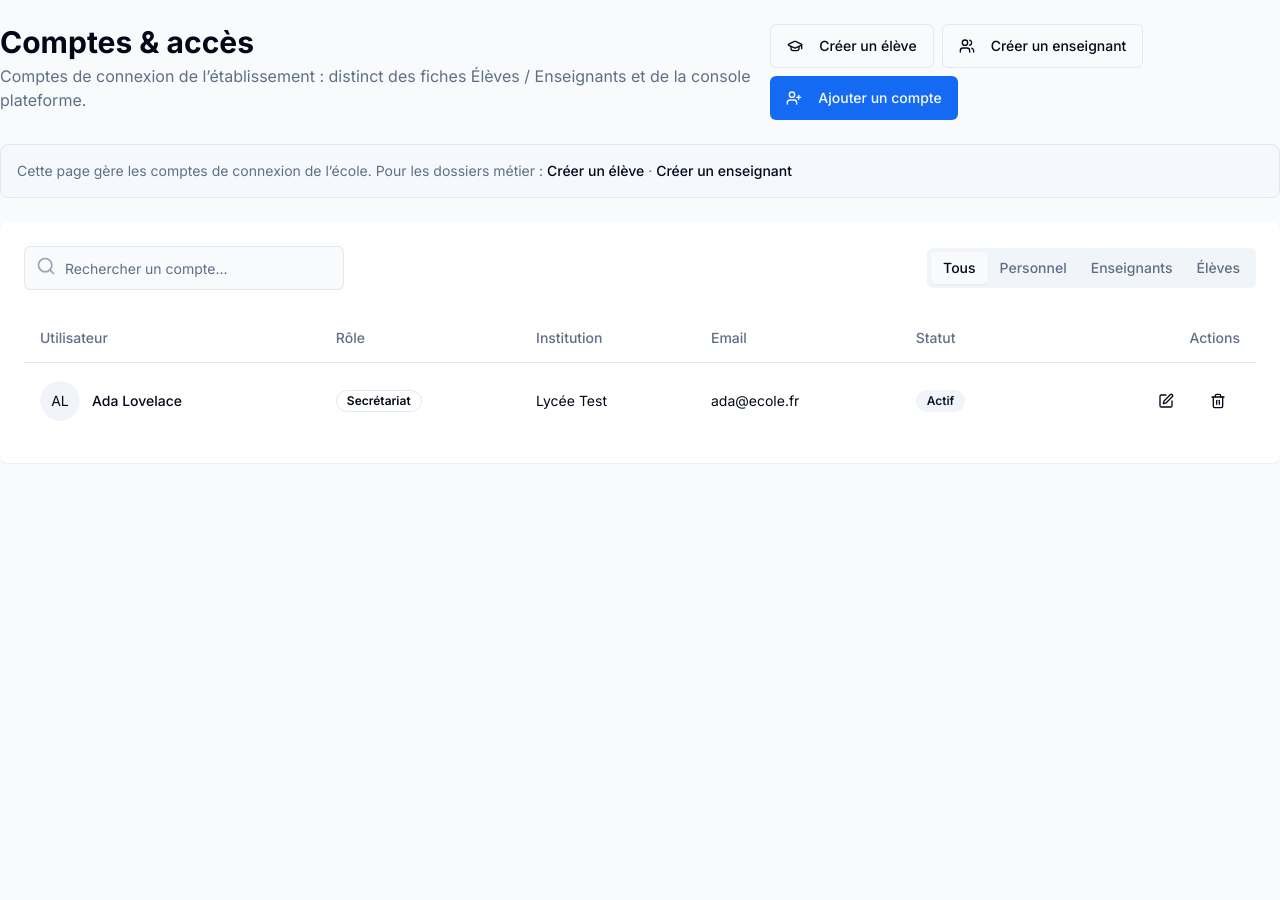
Test: UsersManagement (comptes vs métier) › n’offre pas les rôles élève/enseignant à la création de compte
Click the button "Ajouter un compte".
click(864, 98)  # box [770, 76, 958, 120]
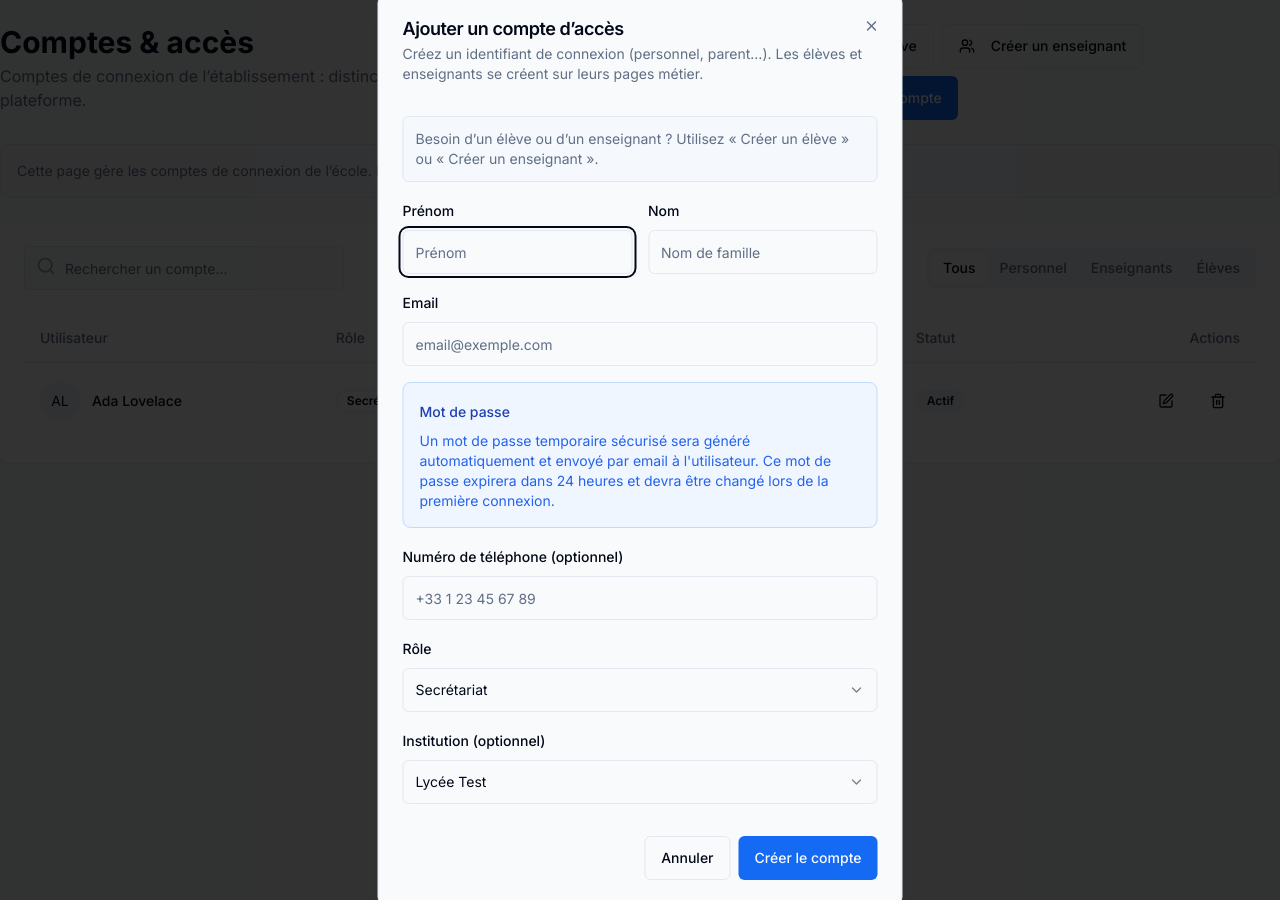
expect the heading "Ajouter un compte d’accès" is shown: met, box [402, 18, 624, 39]
// Ouvre le select rôle : les options métier ne doivent pas apparaître.
Click the dropdown named "Rôle".
click(452, 690)  # box [402, 668, 878, 712]
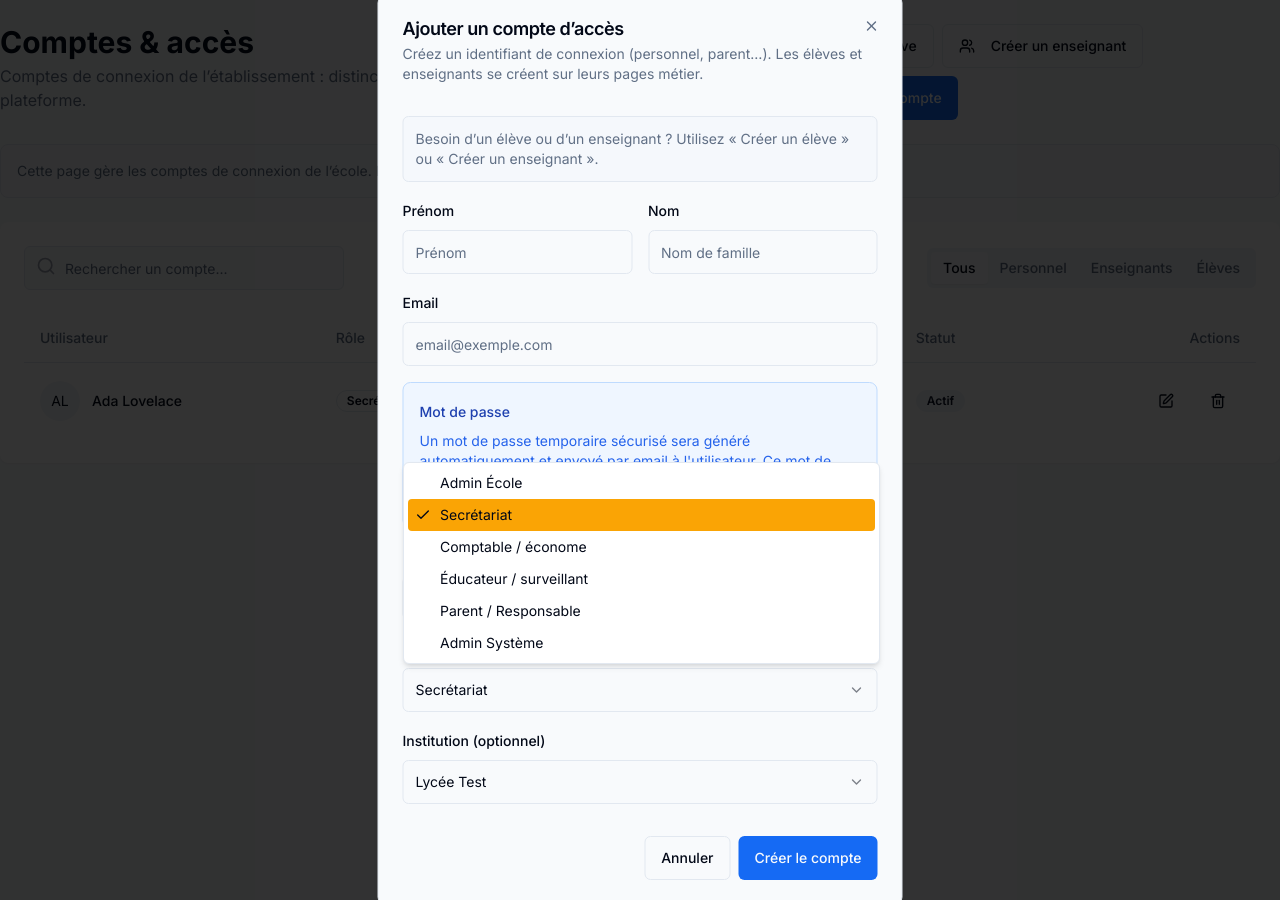
expect the option "Secrétariat" is shown: met, box [408, 499, 875, 531]
